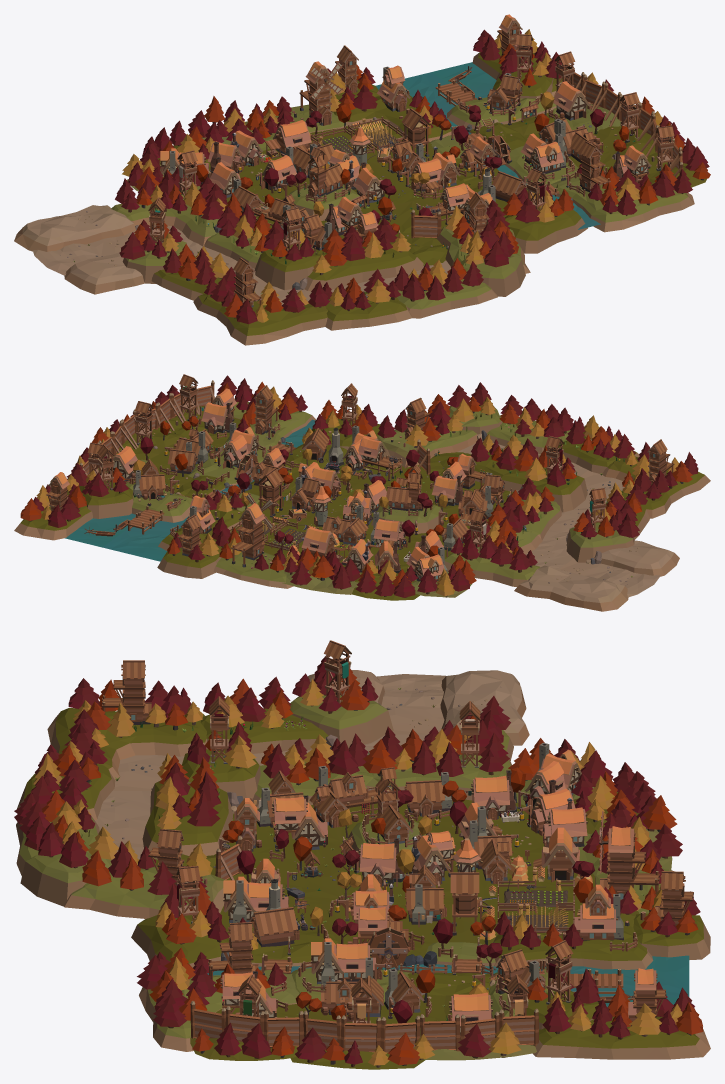
Rendered from Village_Autumn.glb.
3 views of the same model, one above another, from view 1: azimuth 30°, elevation 25°; view 2: azimuth 150°, elevation 25°; view 3: azimuth 270°, elevation 25° (orthographic). The views are drawn at different scales.
Parts seen in each view (by area): view 1: TB_Env_Mound_Corner_B (×2), TB_Env_Mound_Big_C, TB_Env_Mound_Corner_A, TB_Env_Mound_Med_A (3), TB_Env_Mound_Med_C, TB_Env_Mound_Med_A (4), TB_Env_Mound_Med_A, TB_Bd_House (×3), TB_Env_Mound_Med_B (1), TB_Env_Mound_Small_A, TB_Bd_House_Open (×2), TB_Env_Mound_Small_B (+39 smaller); view 2: TB_Env_Mound_Big_C, TB_Env_Mound_Corner_B (×2), TB_Bd_House (×4), TB_Bd_WoodHouse (×4), TB_Env_Mound_Med_C, TB_Env_Tile_Water_A (3), TB_Env_Mound_Corner_A, TB_Env_Mound_Big_B, TB_Bd_House_Open (×3), TB_Env_Mound_Med_B (2), TB_Env_Mound_Small_B (3), TB_Env_Mound_Med_A (2) (+52 smaller); view 3: TB_Bd_WoodHouse (×6), TB_Bd_House (×5), TB_Env_Mound_Med_A (2), TB_Env_Mound_Corner_B (×2), TB_Env_Mound_Corner_A, TB_Env_Mound_Big_C, TB_Bd_House_Open (×4), TB_Env_Mound_Big_B, TB_Bd_Wood_Tall (×3), TB_Env_Mound_Corner_A (1), TB_Env_Tile_Grass_A (6), TB_Env_Mound_Small_B (3) (+68 smaller).
Part boxes in pixels (left/top/right/bottom): TB_Env_Mound_Corner_B (×2): left=111, top=174, right=694, bottom=246; TB_Env_Mound_Big_C: left=14, top=205, right=135, bottom=251; TB_Env_Mound_Corner_A: left=193, top=292, right=328, bottom=345; TB_Env_Mound_Med_A (3): left=305, top=242, right=423, bottom=291; TB_Env_Mound_Med_C: left=64, top=252, right=144, bottom=294; TB_Env_Mound_Med_A (4): left=505, top=207, right=587, bottom=253; TB_Env_Mound_Med_A: left=325, top=292, right=412, bottom=330; TB_Bd_House (×3): left=210, top=141, right=564, bottom=203; TB_Env_Mound_Med_B (1): left=397, top=279, right=497, bottom=318; TB_Env_Mound_Small_A: left=254, top=244, right=320, bottom=290; TB_Bd_House_Open (×2): left=262, top=81, right=590, bottom=188; TB_Env_Mound_Small_B: left=460, top=255, right=525, bottom=296; TB_Env_Mound_Big_C: left=514, top=565, right=628, bottom=611; TB_Env_Mound_Corner_B (×2): left=224, top=399, right=542, bottom=586; TB_Bd_House (×4): left=201, top=402, right=463, bottom=581; TB_Bd_WoodHouse (×4): left=138, top=428, right=412, bottom=510; TB_Env_Mound_Med_C: left=600, top=540, right=679, bottom=576; TB_Env_Tile_Water_A (3): left=102, top=520, right=183, bottom=561; TB_Env_Mound_Corner_A: left=602, top=456, right=710, bottom=518; TB_Env_Mound_Big_B: left=377, top=425, right=477, bottom=467; TB_Bd_House_Open (×3): left=105, top=435, right=402, bottom=546; TB_Env_Mound_Med_B (2): left=213, top=552, right=293, bottom=588; TB_Env_Mound_Small_B (3): left=566, top=523, right=634, bottom=562; TB_Env_Mound_Med_A (2): left=14, top=491, right=92, bottom=540; TB_Bd_WoodHouse (×6): left=249, top=780, right=511, bottom=1012; TB_Bd_House (×5): left=291, top=775, right=587, bottom=883; TB_Env_Mound_Med_A (2): left=533, top=1016, right=710, bottom=1059; TB_Env_Mound_Corner_B (×2): left=139, top=730, right=513, bottom=1051; TB_Env_Mound_Corner_A: left=47, top=707, right=206, bottom=780; TB_Env_Mound_Big_C: left=440, top=670, right=529, bottom=745; TB_Bd_House_Open (×4): left=246, top=761, right=570, bottom=1035; TB_Env_Mound_Big_B: left=64, top=866, right=225, bottom=918; TB_Bd_Wood_Tall (×3): left=102, top=680, right=659, bottom=985; TB_Env_Mound_Corner_A (1): left=493, top=910, right=653, bottom=969; TB_Env_Tile_Grass_A (6): left=225, top=847, right=341, bottom=903; TB_Env_Mound_Small_B (3): left=290, top=694, right=393, bottom=748.
Bounding box in the file's own units: 142 × 17.37 × 105.
1 material, 1 textured.
